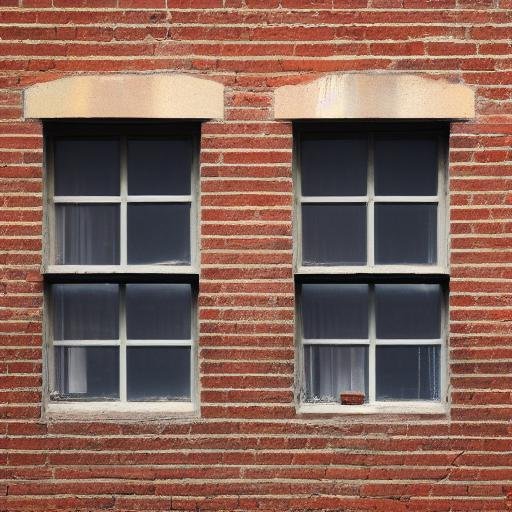Window: (22, 69, 476, 429)
